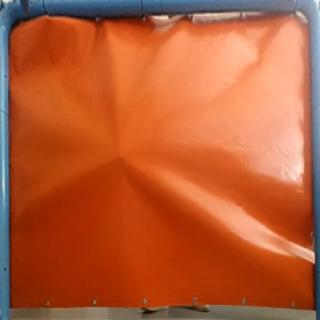Hit-hRxx: (112, 152, 130, 164)
